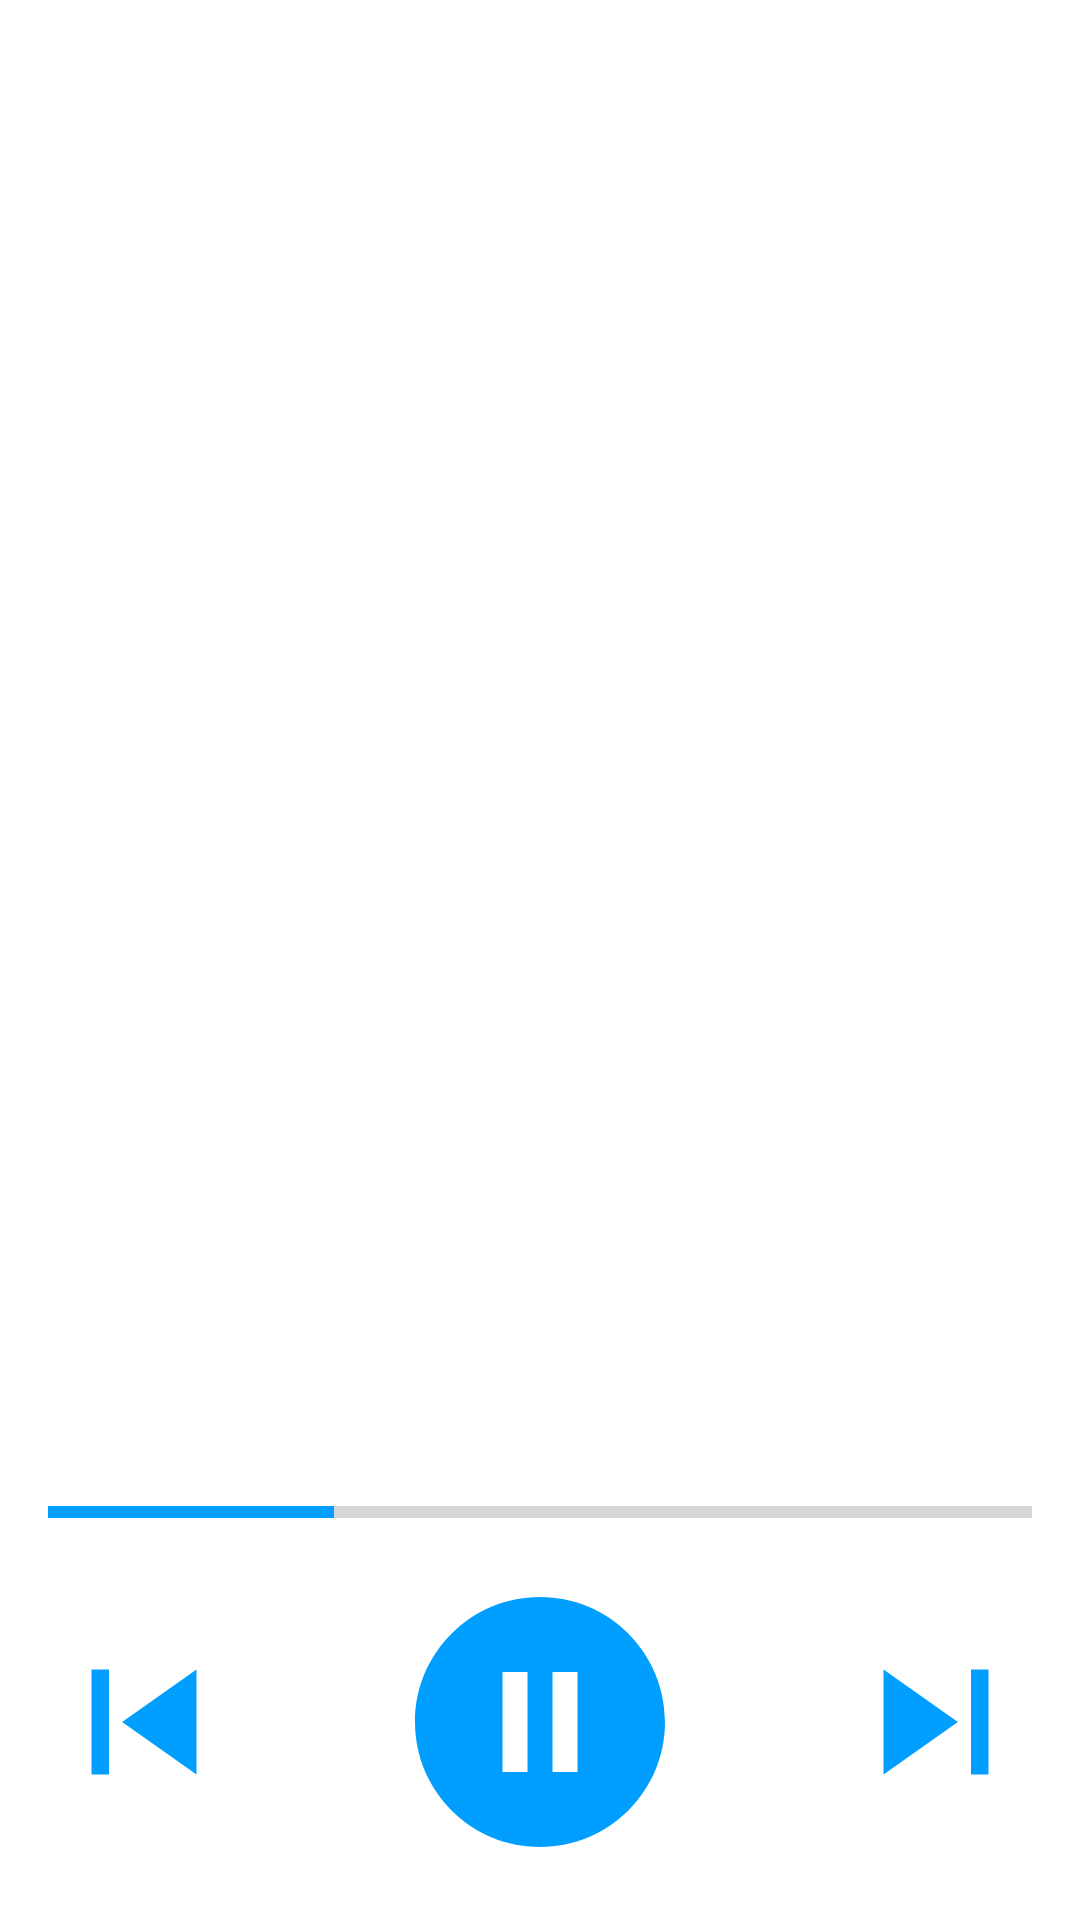

Screen size 1080w x 1920h. Icon name, then its center in pixels as point (x, y):
next: point (936, 1722)
pause: point (540, 1722)
previous: point (144, 1722)
